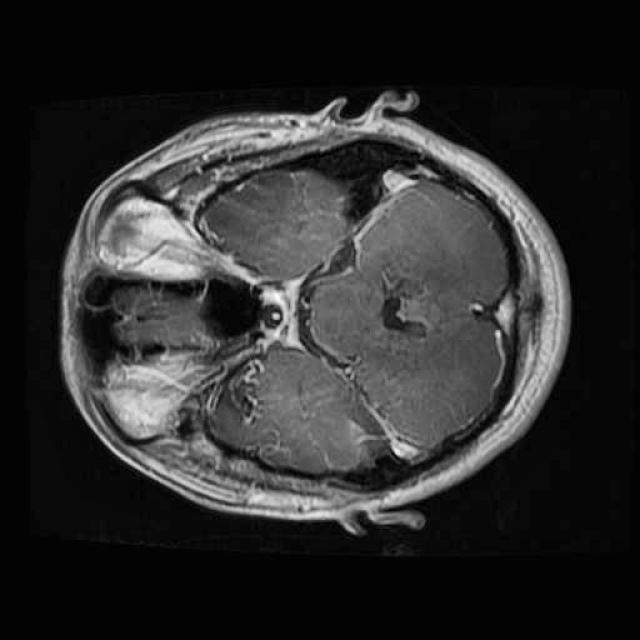Non-Tumor: (214, 344, 279, 434)
